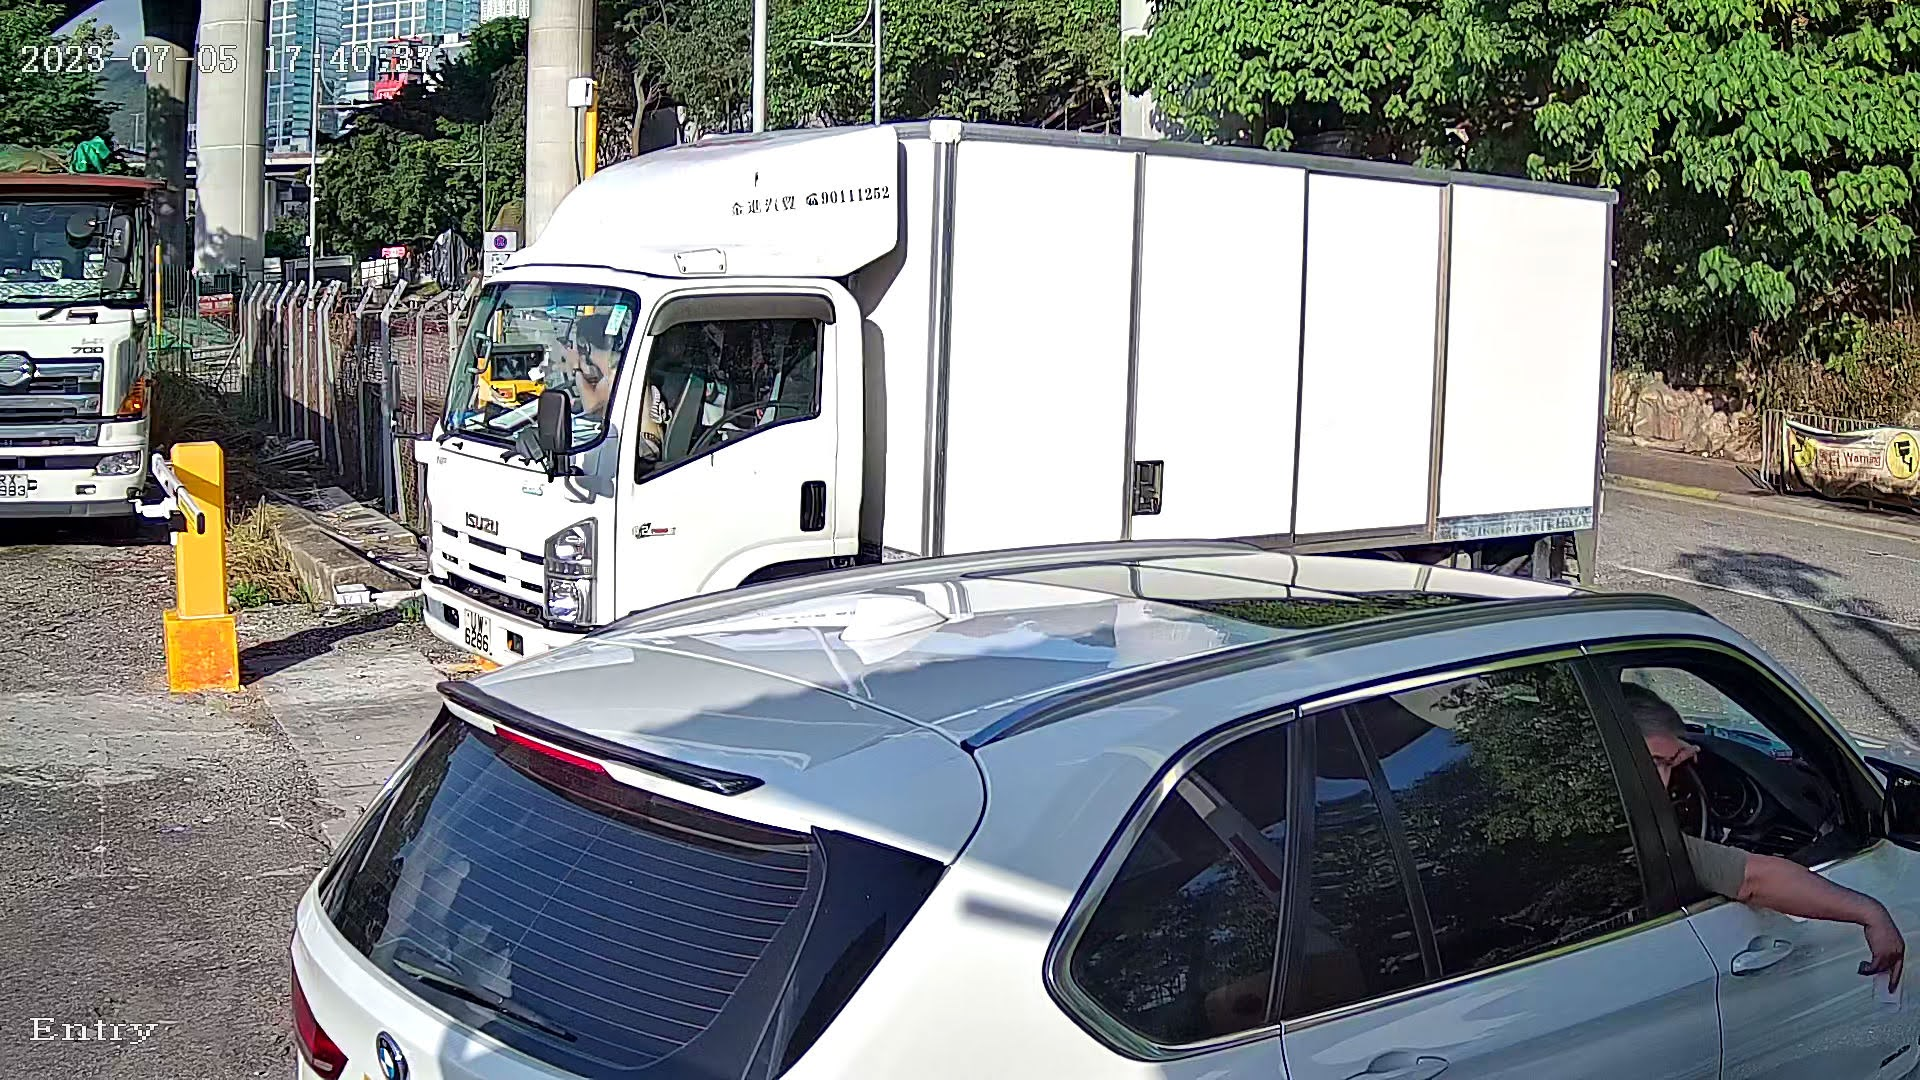privatecar: (269, 526, 1920, 1071)
truck: (409, 102, 1679, 696)
